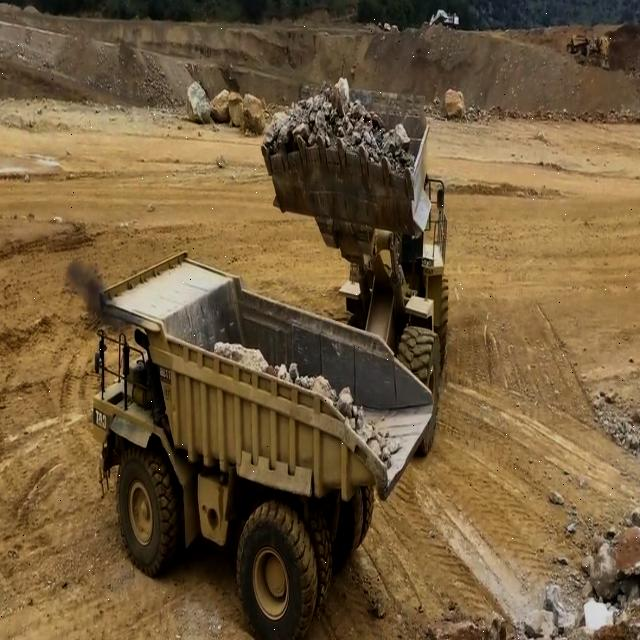Excavator: (430, 8, 459, 29)
